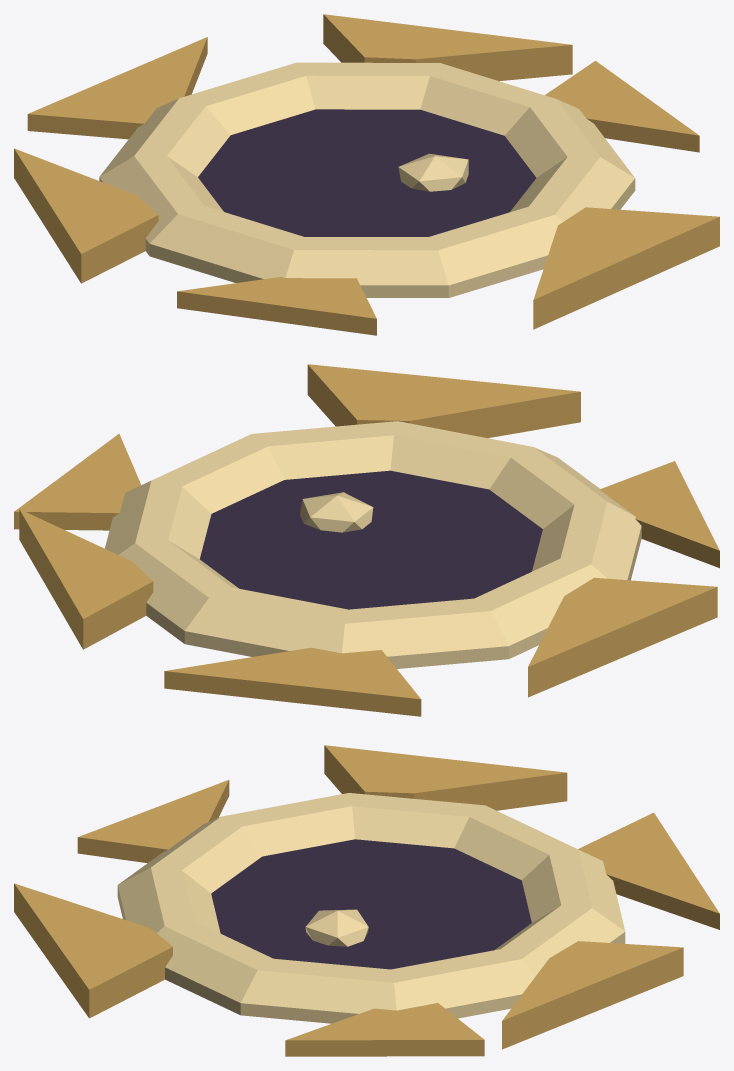
The model's file is crater-m-sand.glb.
The picture shows the model from 3 angles, top to bottom: view 1: azimuth 30°, elevation 25°; view 2: azimuth 150°, elevation 25°; view 3: azimuth 270°, elevation 25°; orthographic projection. The views are drawn at different scales.
Visible parts, largest first — view 1: crater-m-sand; view 2: crater-m-sand; view 3: crater-m-sand.
Boxes of the visible parts, bbox=[...] form: crater-m-sand: bbox=[14, 14, 719, 335]; crater-m-sand: bbox=[14, 364, 719, 716]; crater-m-sand: bbox=[14, 745, 719, 1056].
Bounding box in the file's own units: 1.48 × 0.1032 × 1.56.
